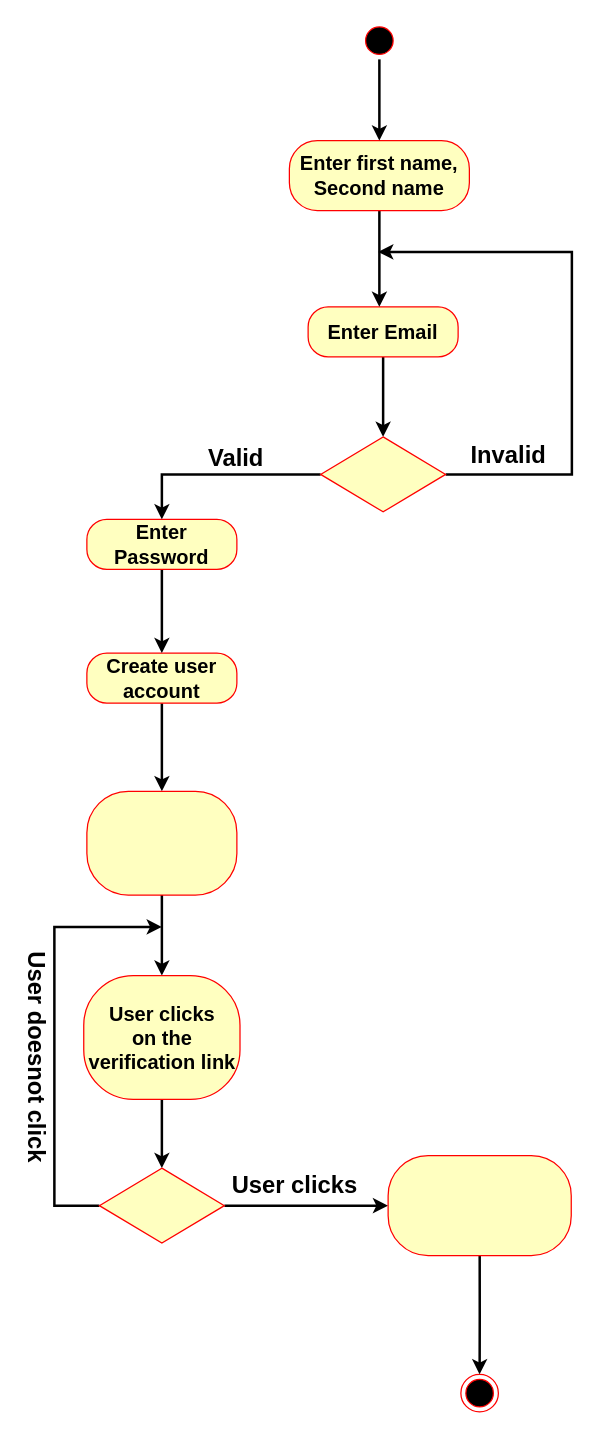
This 604x1434 diagram has some shape labels left out. The shapes that lost their labels are listed below. From the top down, each one's centre as x and y in pixels, then its label:
point 161,842: System send verification email
point 479,1205: System actviate user account
